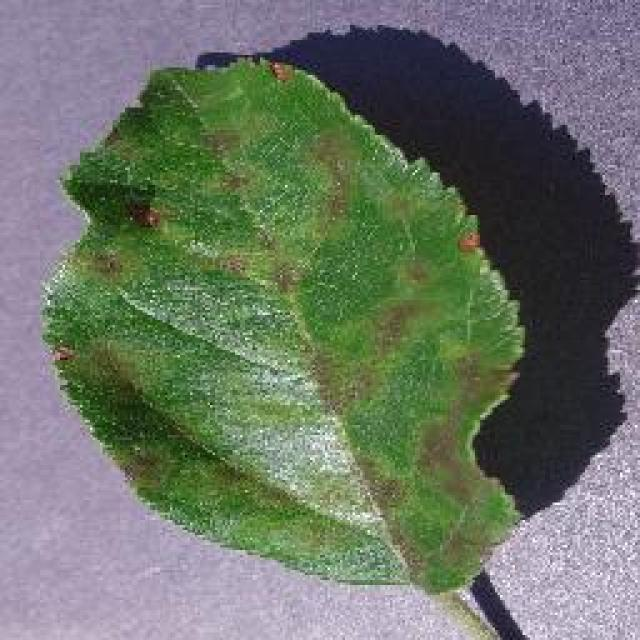apple scab disease: (40, 50, 530, 598)
